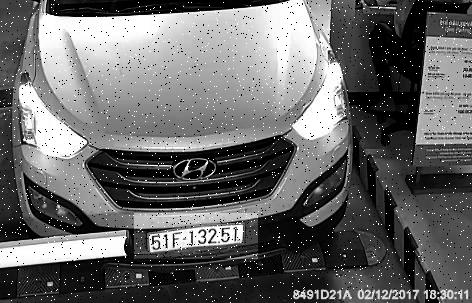License-plate: (136, 214, 261, 260)
